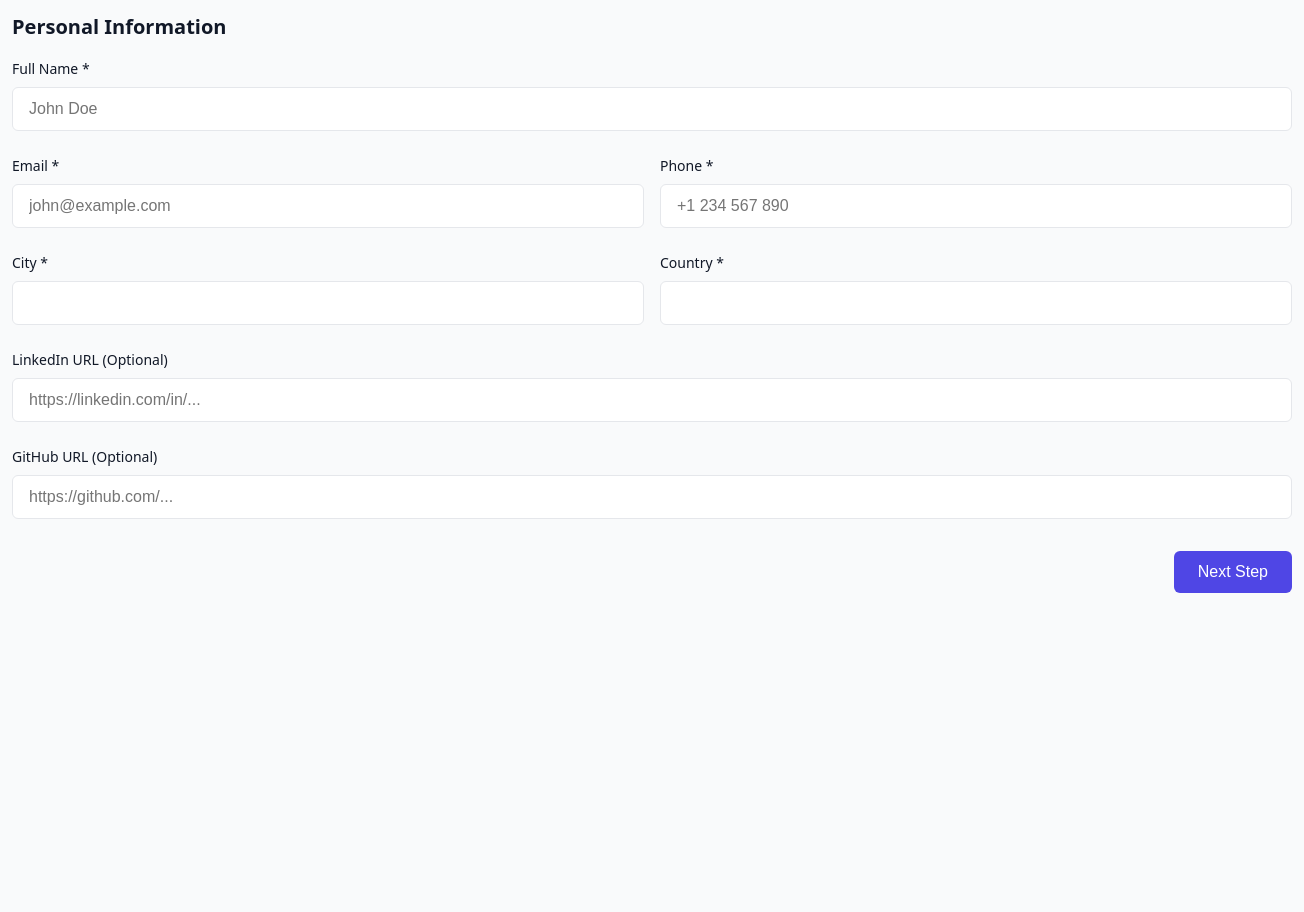
Test: Step1_PersonalInfo › should show error for invalid phone number
The width and height of the screenshot is (1304, 912).
Type "abc123" into the field labelled "Phone *" at (976, 206), box [660,184,1292,228]
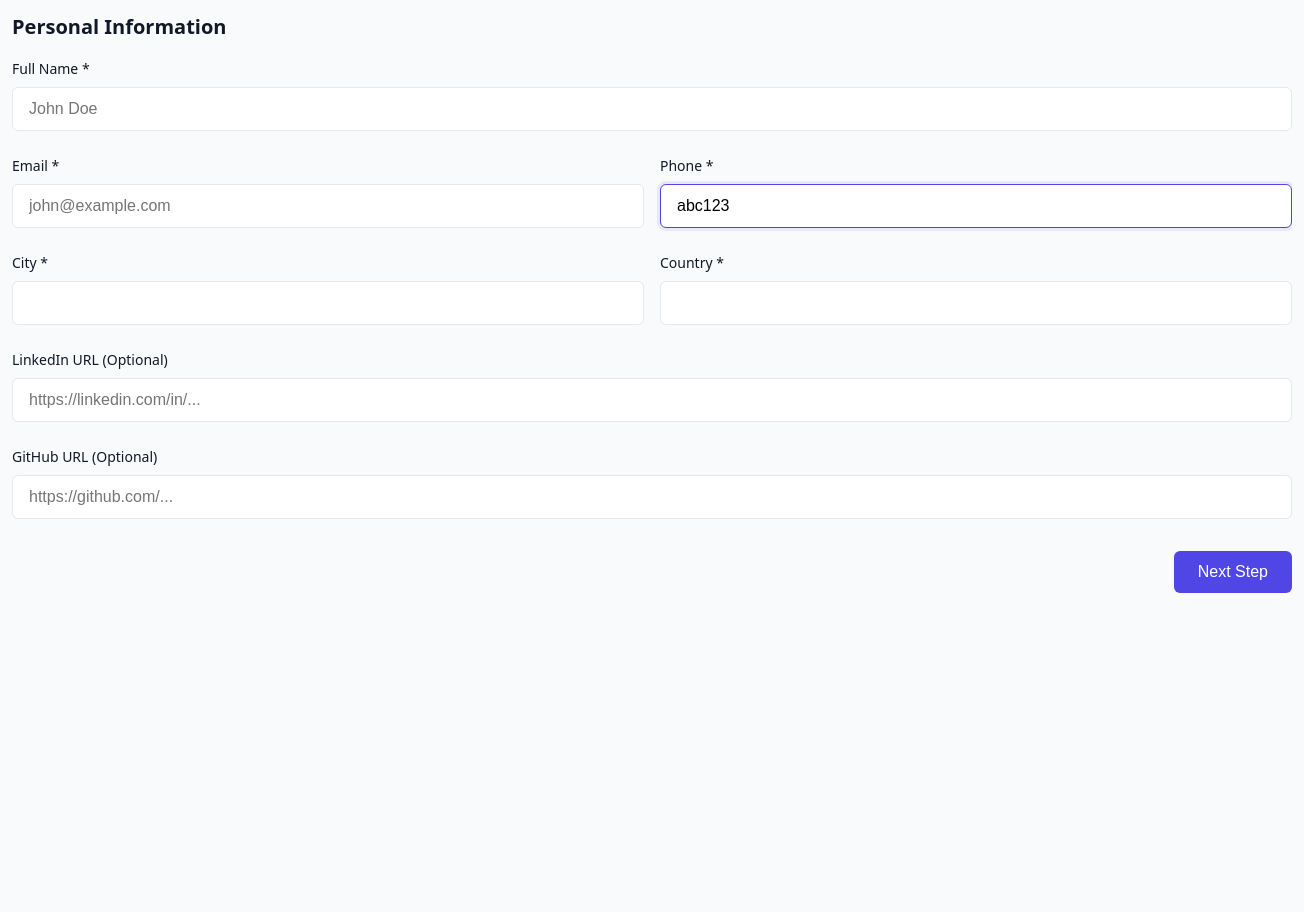
Click the button "Next Step" at (1233, 572), box [1174,551,1292,593]
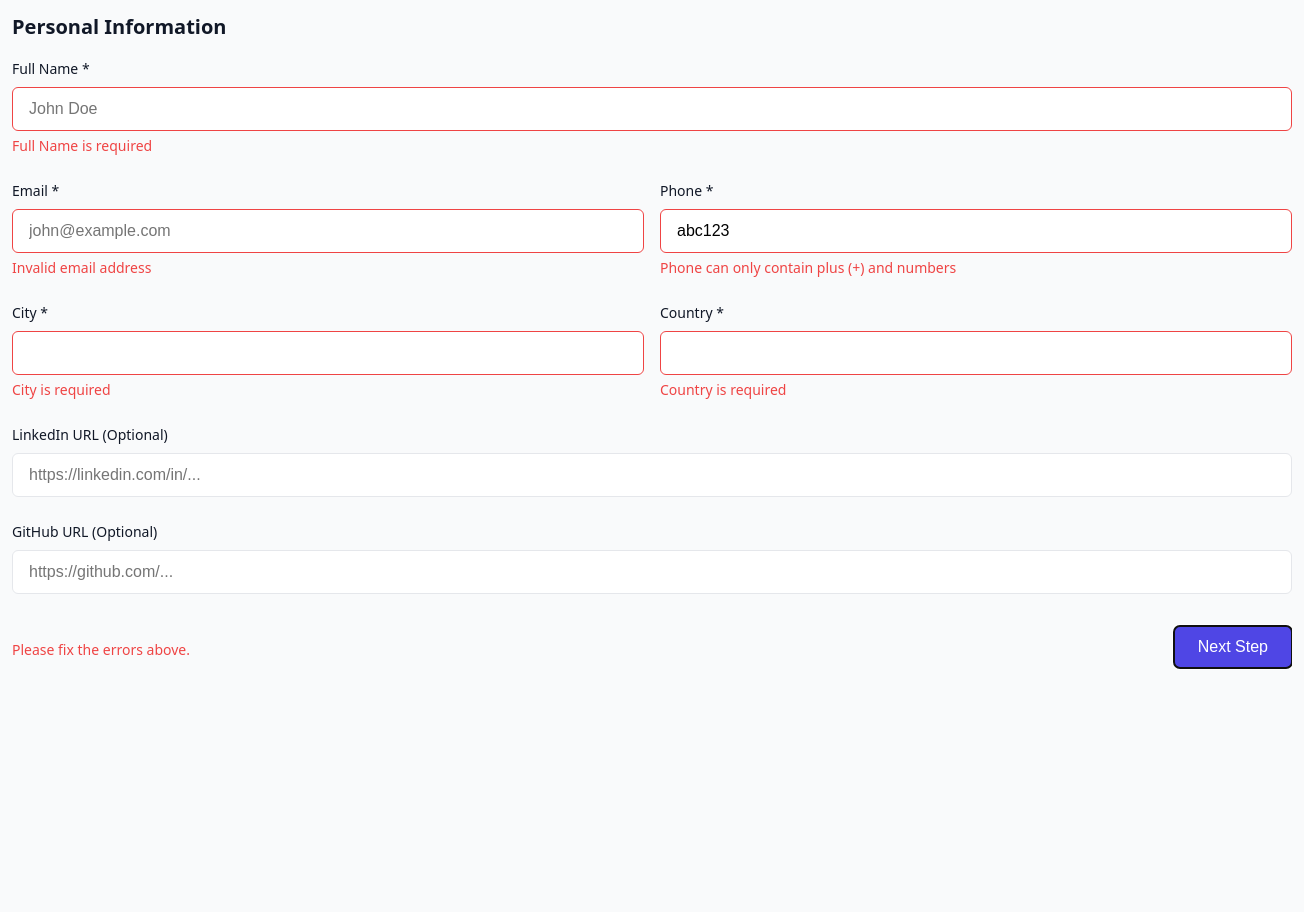
Check: the text "Phone can only contain plus (+) and numbers" is shown, box [660,258,956,277]
